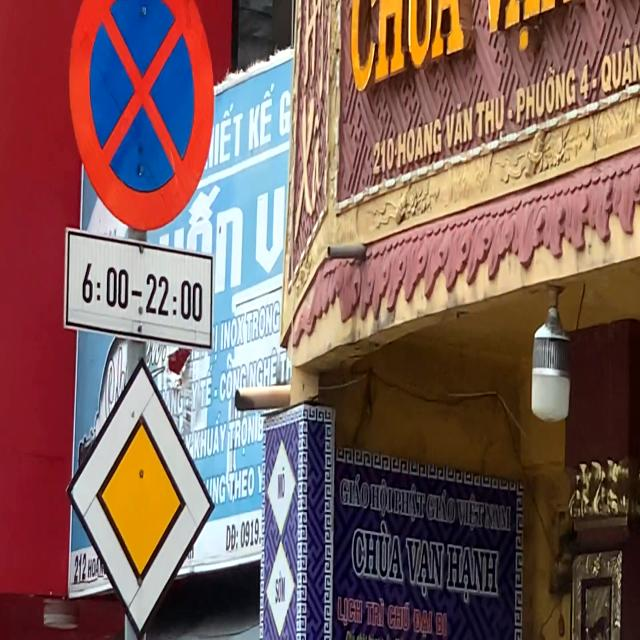P.130: (68, 0, 221, 228)
